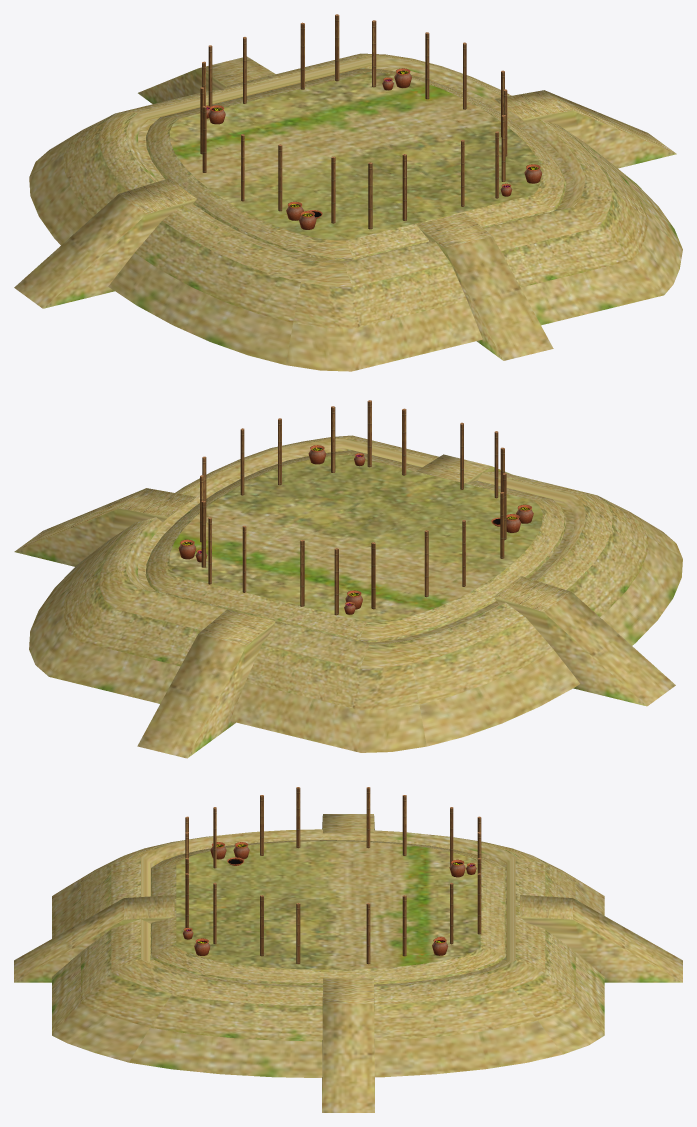
The model's file is tupis_geoglifo.dae.
3 views of the same model, one above another, from view 1: azimuth 30°, elevation 25°; view 2: azimuth 150°, elevation 25°; view 3: azimuth 270°, elevation 25° (orthographic). The views are drawn at different scales.
Parts seen in each view (by area): view 1: GEOGLIFO; view 2: GEOGLIFO; view 3: GEOGLIFO.
Part boxes in pixels (x1=…): GEOGLIFO: x1=14, y1=14, x2=682, y2=371; GEOGLIFO: x1=14, y1=400, x2=682, y2=758; GEOGLIFO: x1=14, y1=787, x2=682, y2=1112.
Bounding box in the file's own units: 66.47 × 66.47 × 13.8.
